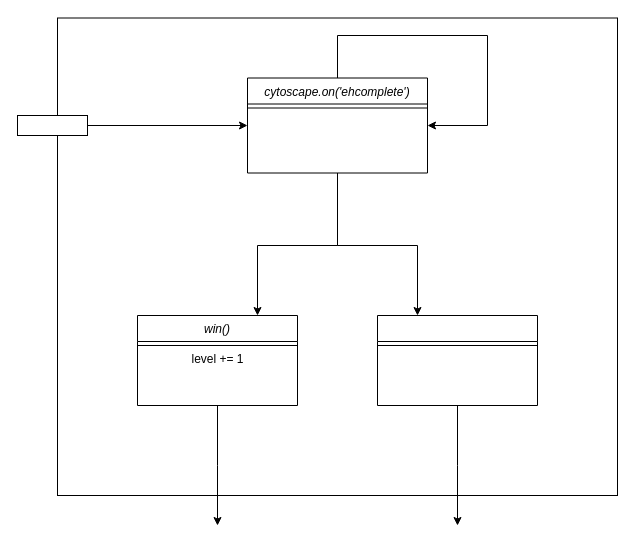
The diagram is 635 pixels wide and 551 high, and some of its shapes have lost their labels. Here are the shapes that lost their labels. From the top down, the centre of each, then its label:
pixel 52 125: Graph
pixel 457 360: lose()
